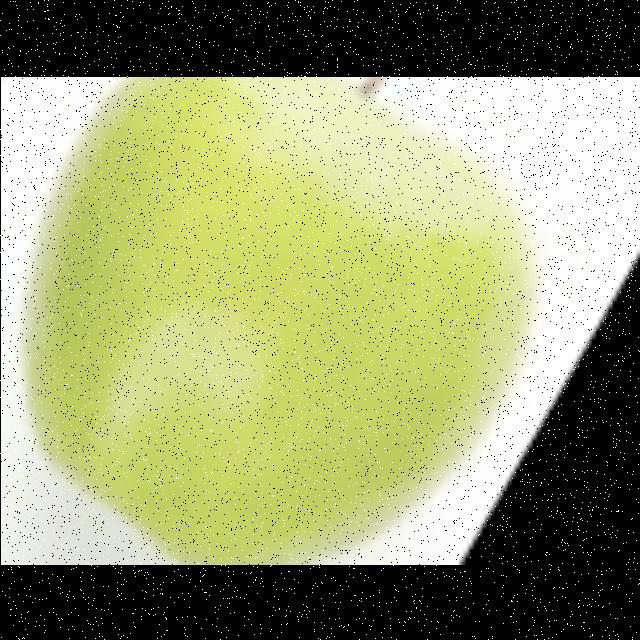Apel Segar: (13, 76, 547, 564)
